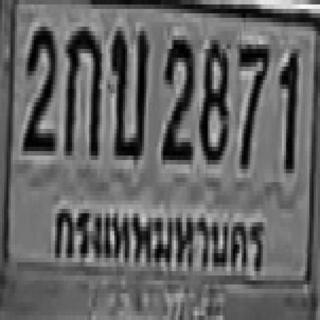A01: (64, 22, 100, 156)
A26: (110, 26, 146, 156)
N01: (278, 45, 297, 169)
N02: (21, 22, 55, 147), (161, 33, 193, 158)
N07: (237, 40, 267, 164)
N08: (197, 36, 227, 160)
P04: (50, 190, 272, 288)
